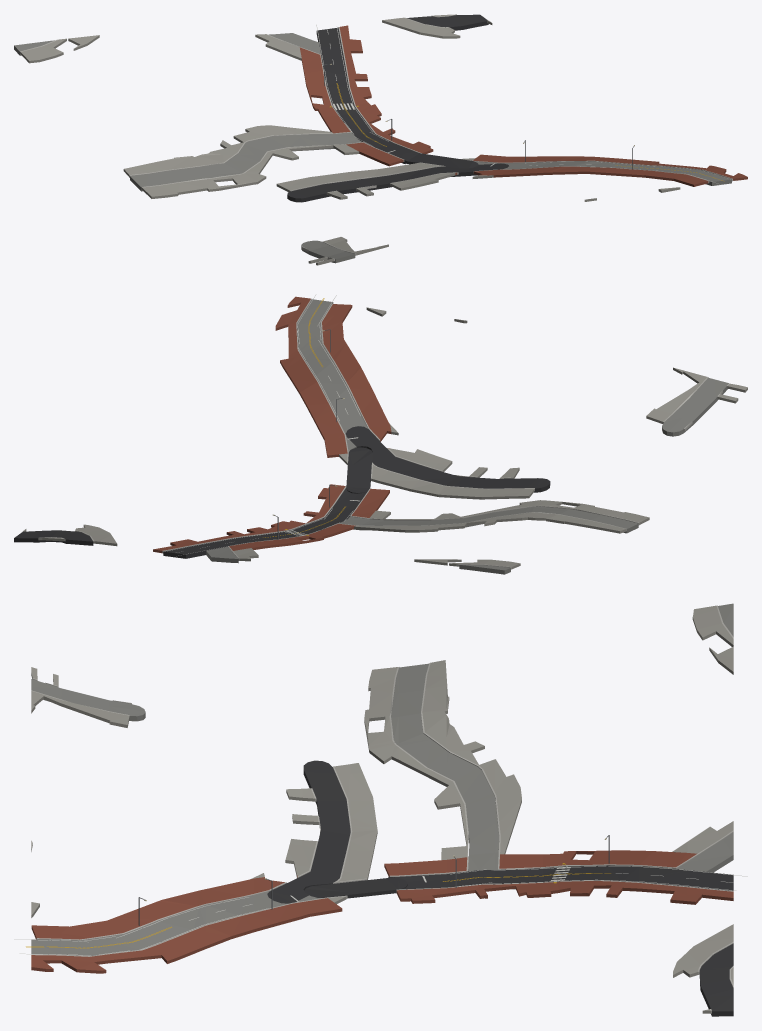
3 renders of one model, top to bottom at view 1: azimuth 30°, elevation 25°; view 2: azimuth 150°, elevation 25°; view 3: azimuth 270°, elevation 25°, orthographic. The views are drawn at different scales.
Bounding box in the file's own units: 147 × 26.6 × 152.
